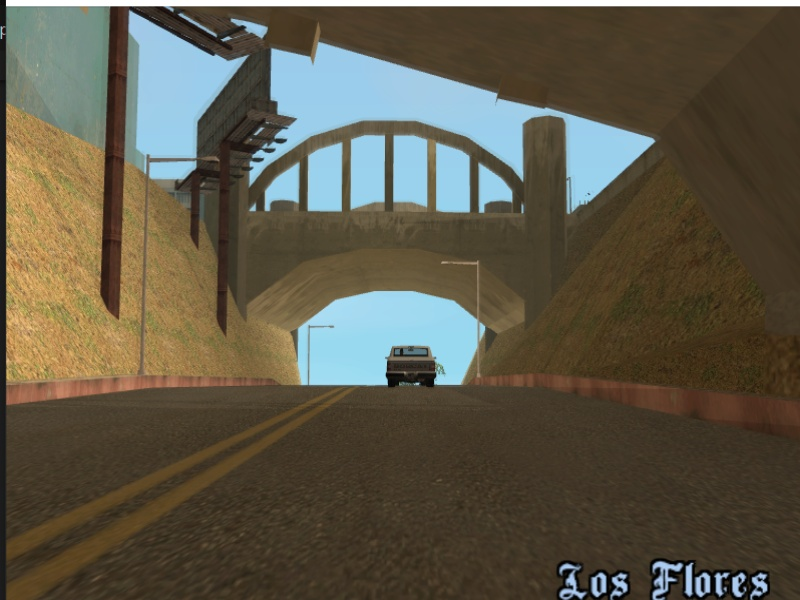pole: (141, 153, 153, 379), (471, 259, 485, 378), (305, 323, 315, 385)
vehicle: (383, 340, 440, 391)
